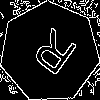R: (24, 27, 80, 85)
